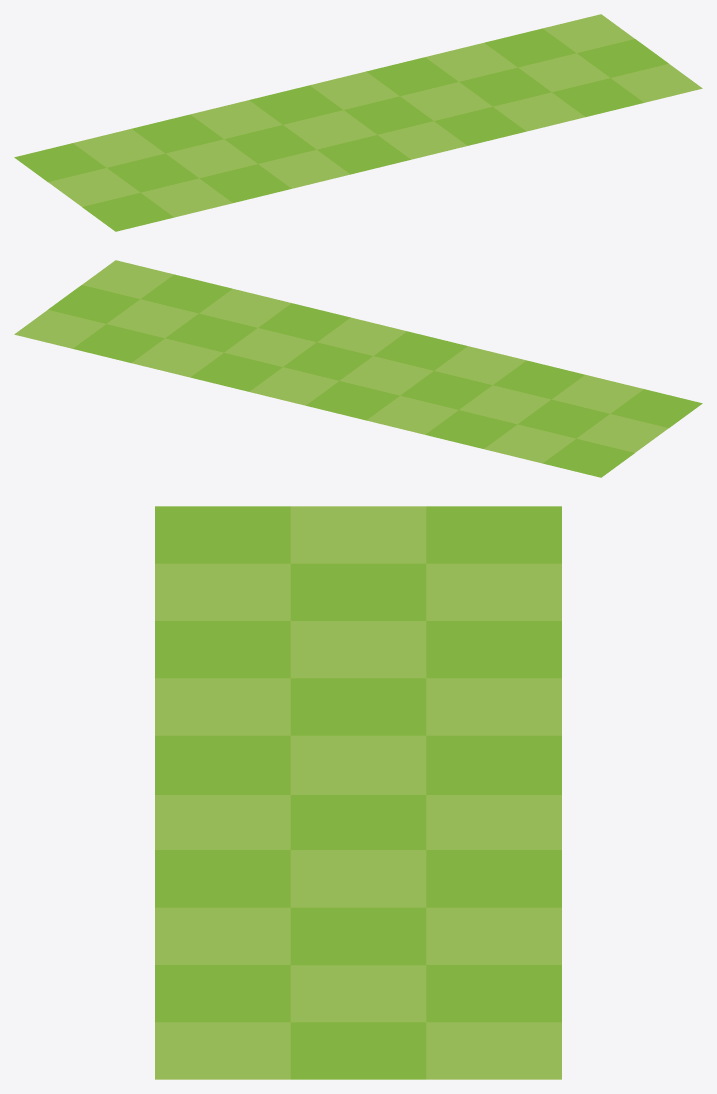
File: Grass3.fbx
3 views of the same model, one above another, from view 1: azimuth 30°, elevation 25°; view 2: azimuth 150°, elevation 25°; view 3: azimuth 270°, elevation 25° (orthographic). The views are drawn at different scales.
Visible parts, largest first — view 1: Plane.002; view 2: Plane.002; view 3: Plane.002.
Boxes of the visible parts, box(x1,y1,x2,y2) form: Plane.002: box(14, 14, 702, 231); Plane.002: box(14, 260, 702, 477); Plane.002: box(155, 506, 561, 1079).
Size of the model in its own units: 10 by 4.89e-07 by 3.
